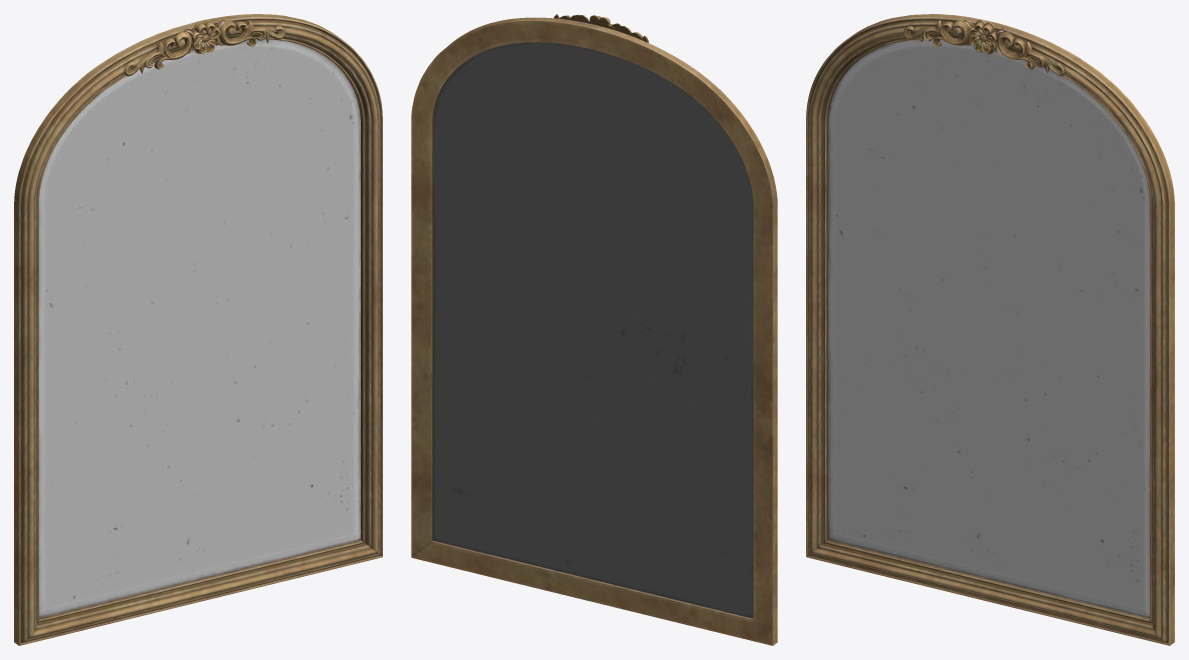
Rendered from ornate_mirror_01.glb.
The picture shows the model from 3 angles, left to right: view 1: azimuth 30°, elevation 25°; view 2: azimuth 150°, elevation 25°; view 3: azimuth 330°, elevation 25°; orthographic projection.
Size of the model in its own units: 0.4865 by 0.7442 by 0.026.
1 material, 1 textured.
